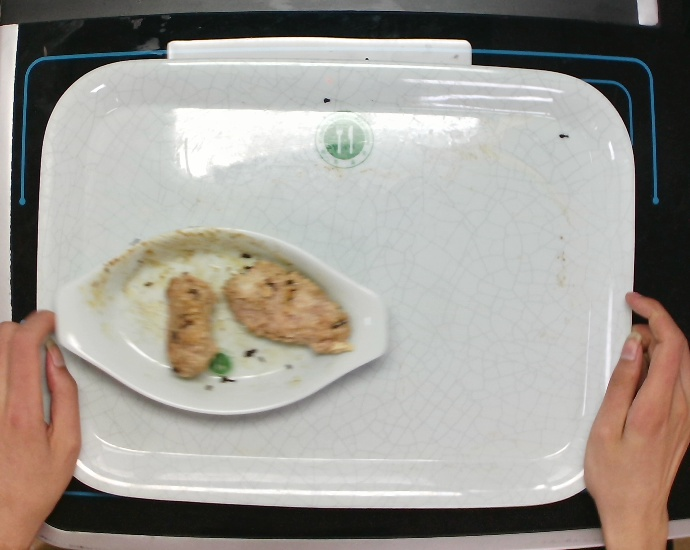JYsf-Yu_Pan: (52, 223, 392, 417)
